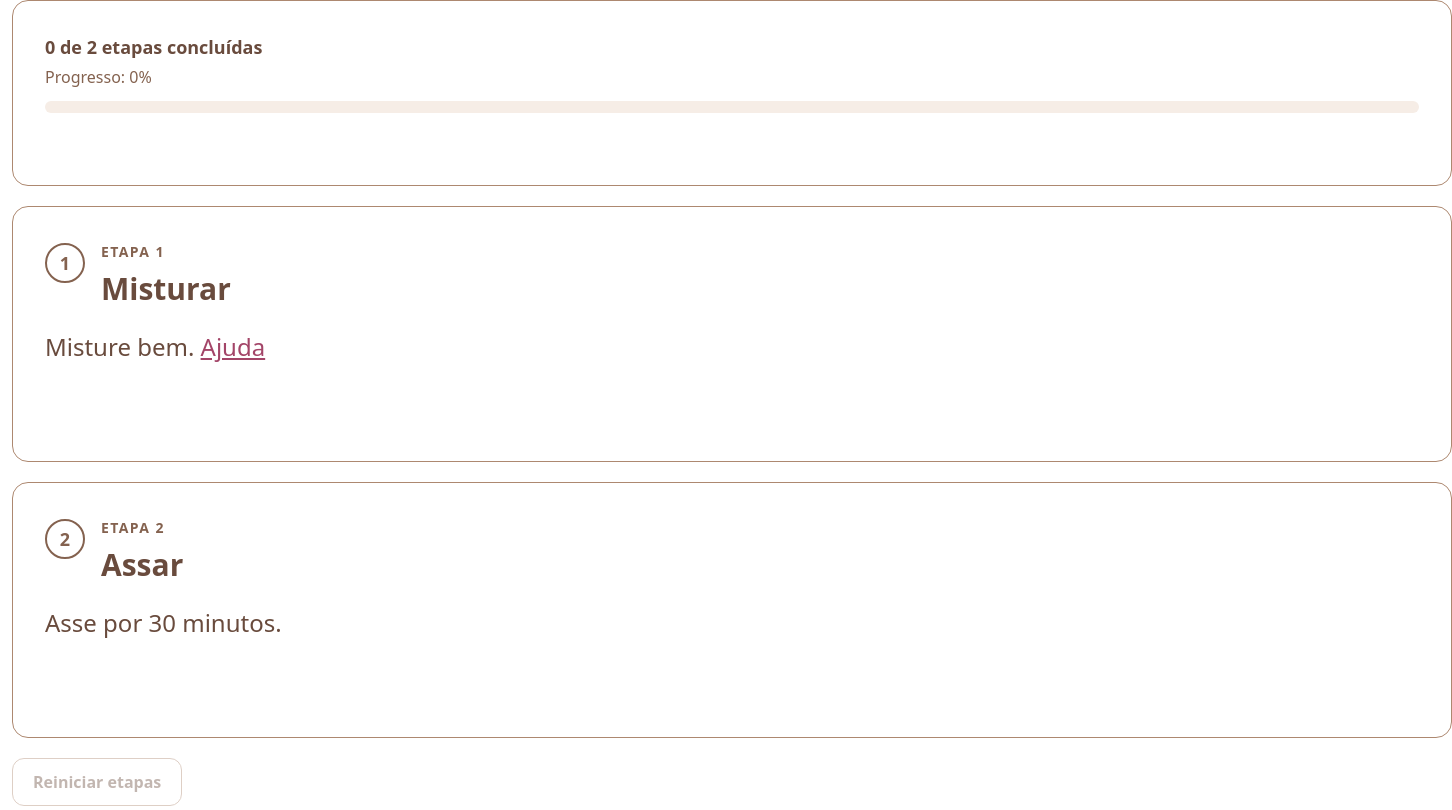
Test case: marca fora de ordem, mantém dimensões/classes estruturais, calcula e reverte conclusão total
Click the button with aria-label "Marcar etapa 2 como concluída" at (65, 539), box [45, 515, 1419, 583]
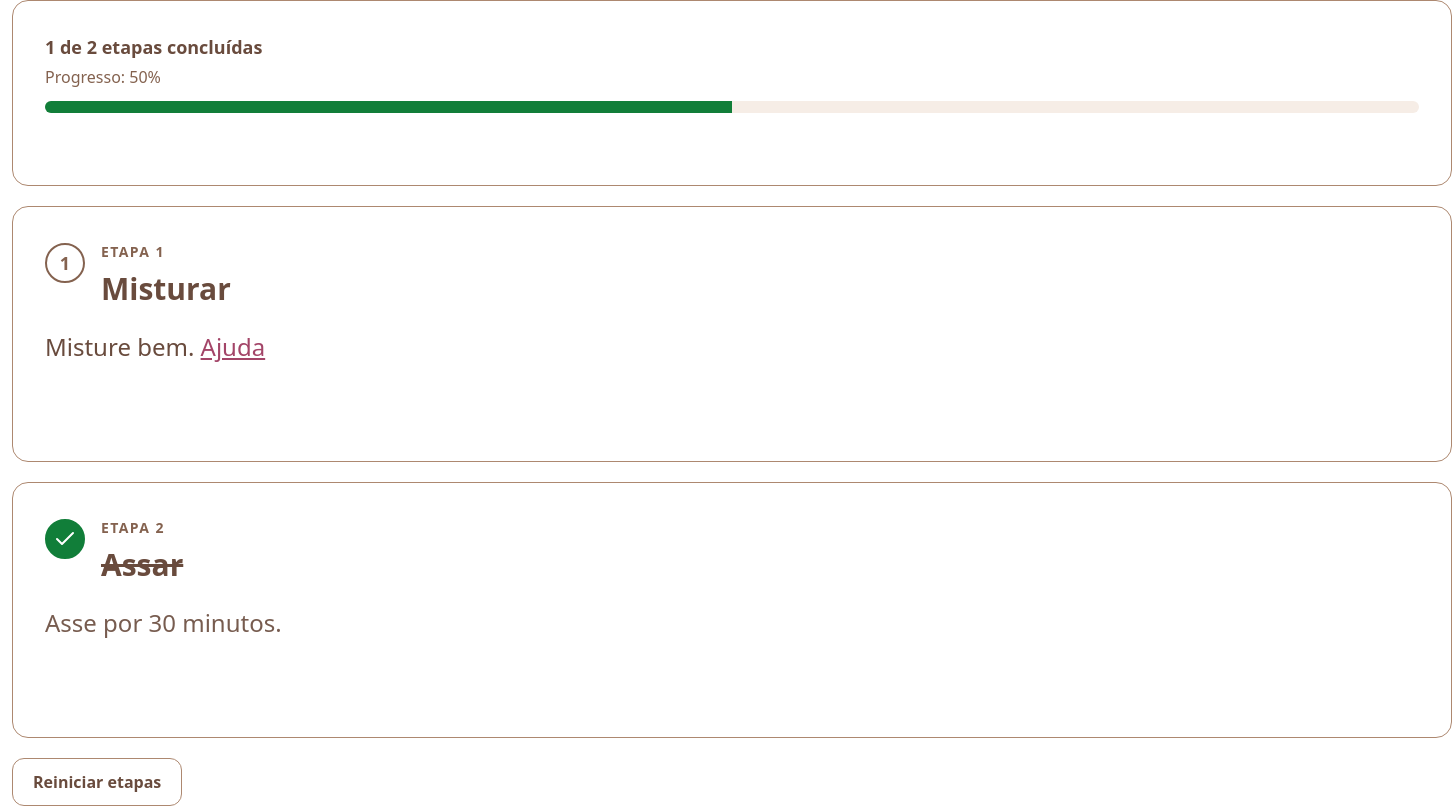
expect the text "Asse por 30 minutos." is shown: met, box [45, 606, 282, 639]
expect the progress indicator has attribute aria-valuenow="50": met, box [45, 101, 1419, 113]
expect the heading "Assar" has class "line-through": met, box [101, 544, 183, 585]
Click the element "Etapa 1" at (732, 447), box [12, 206, 1451, 462]
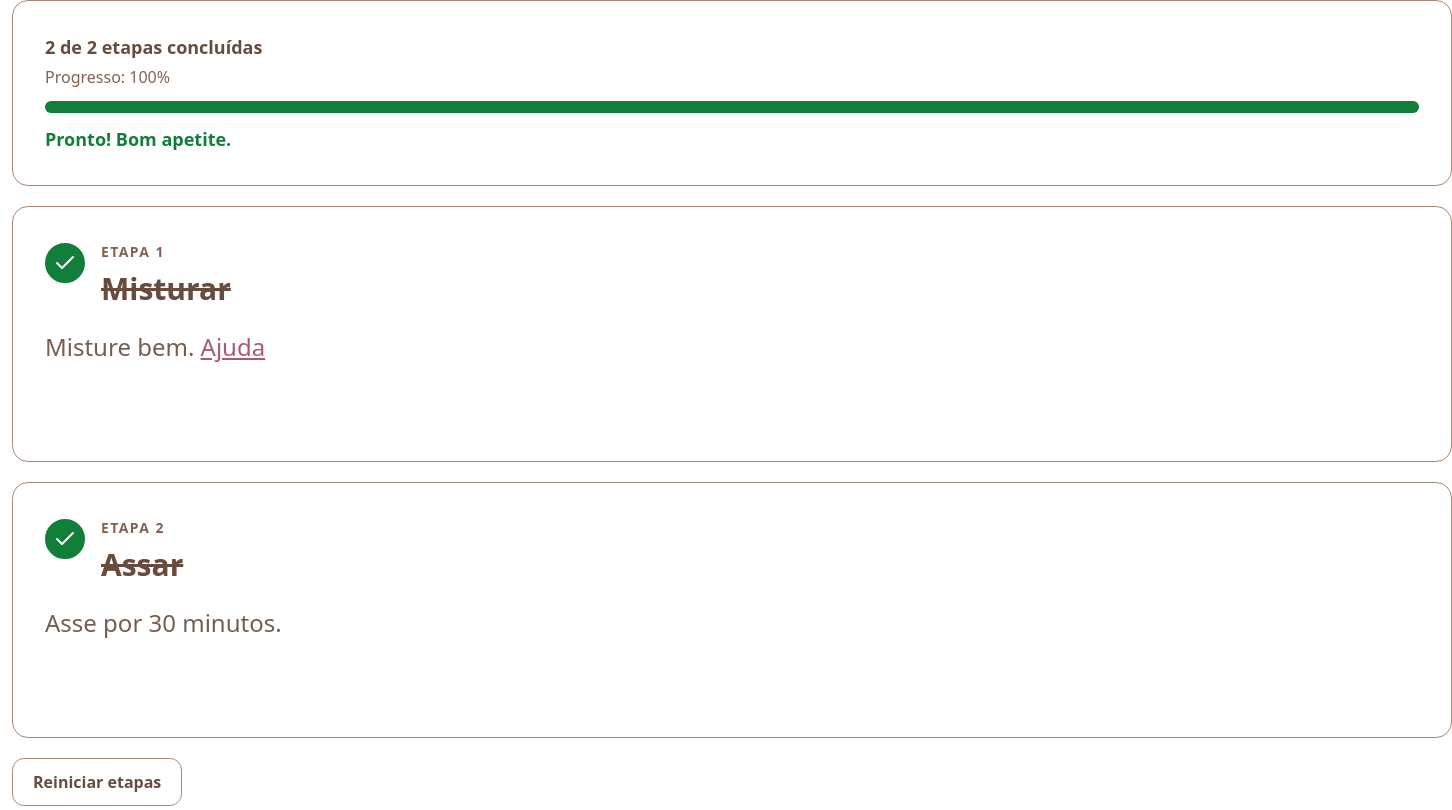
expect the text "Pronto! Bom apetite." is shown: met, box [45, 127, 231, 151]
Click the button with aria-label "Desmarcar etapa 2" at (65, 539), box [45, 515, 1419, 583]
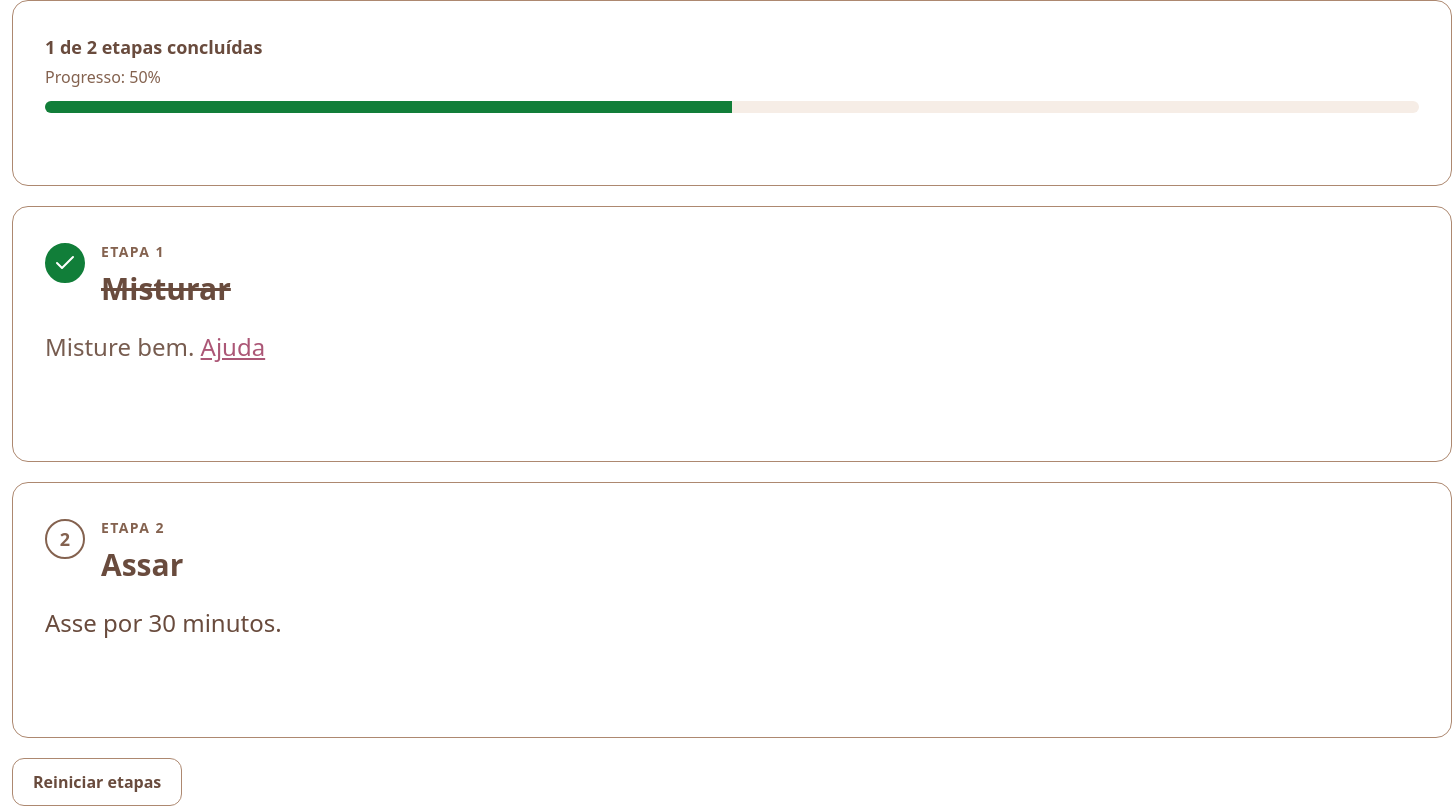
expect the text "Pronto! Bom apetite." is gone: met
